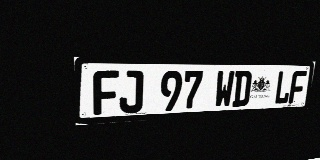7: (181, 71, 203, 110)
9: (160, 70, 183, 111)
D: (232, 71, 252, 107)
F: (93, 70, 119, 115), (288, 71, 307, 104)
J: (119, 70, 144, 114)
L: (274, 71, 293, 105)
W: (214, 71, 235, 108)
